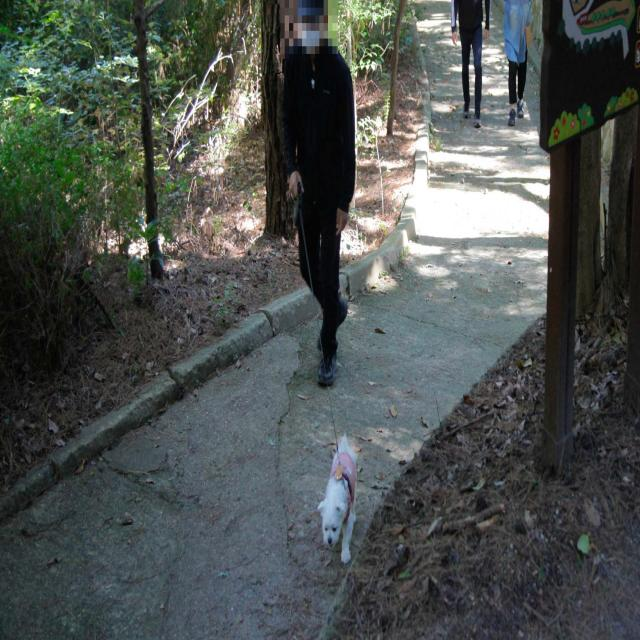Leashed_Dog: (289, 170, 357, 564)
